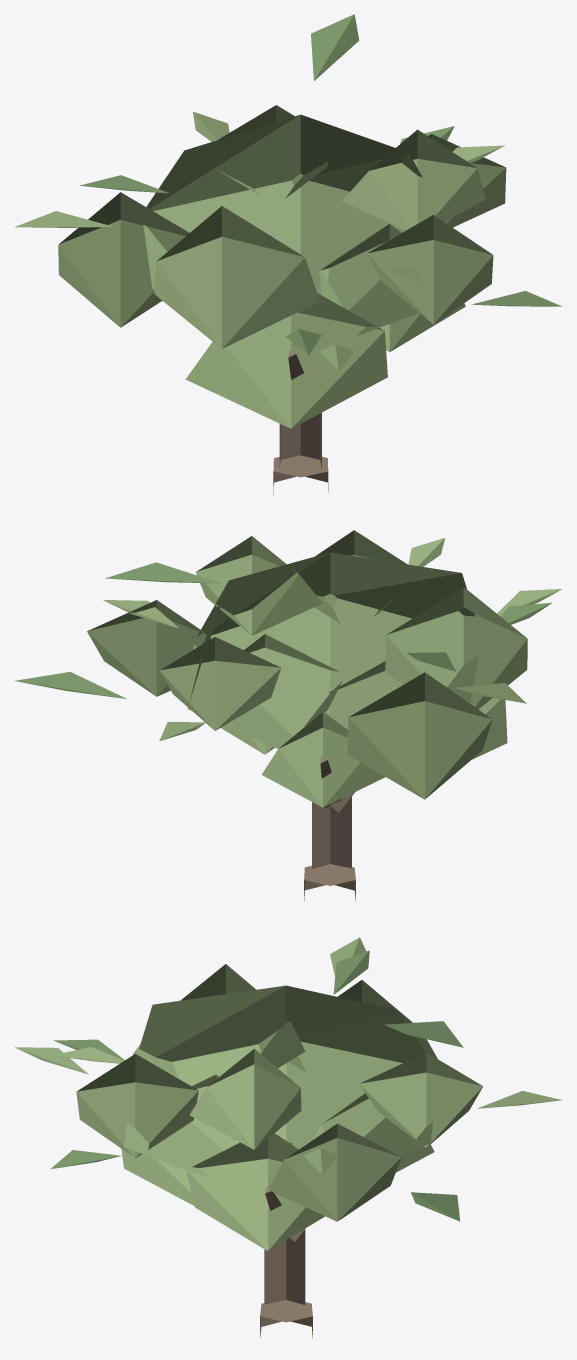
The model's file is shu.ganju@subadult__summer.glb.
The picture shows the model from 3 angles, top to bottom: view 1: azimuth 30°, elevation 25°; view 2: azimuth 150°, elevation 25°; view 3: azimuth 270°, elevation 25°; orthographic projection. The views are drawn at different scales.
Visible parts, largest first — view 1: shu.ganju@subadult__summer; view 2: shu.ganju@subadult__summer; view 3: shu.ganju@subadult__summer.
Part boxes in pixels (<box>): shu.ganju@subadult__summer: <box>14,14,562,494</box>; shu.ganju@subadult__summer: <box>14,530,561,901</box>; shu.ganju@subadult__summer: <box>15,937,562,1338</box>.
Bounding box in the file's own units: 3.91 × 2.82 × 3.95.
